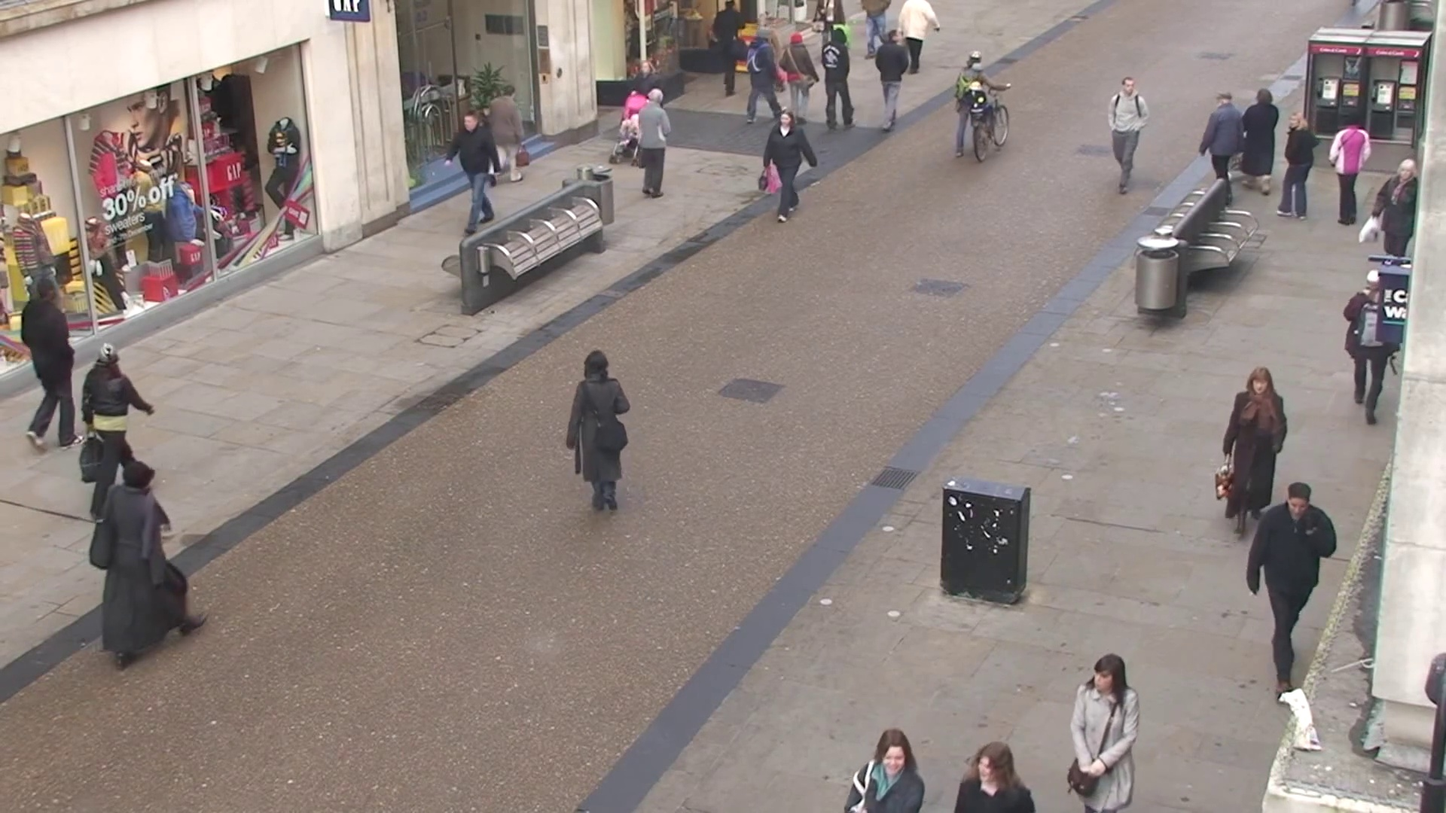person: (90, 457, 185, 667), (1246, 480, 1338, 693), (1219, 366, 1289, 534), (1067, 653, 1139, 813), (80, 346, 154, 491), (567, 351, 630, 515), (20, 271, 78, 449), (845, 728, 926, 813), (1344, 281, 1392, 424), (761, 109, 821, 223), (453, 109, 503, 239), (1370, 140, 1424, 257), (953, 740, 1036, 813), (1107, 75, 1149, 194), (1198, 93, 1246, 196), (1329, 115, 1371, 227), (952, 50, 994, 155), (485, 87, 527, 182), (1279, 116, 1318, 218), (638, 87, 673, 199), (819, 26, 856, 131), (1240, 88, 1280, 184), (740, 29, 780, 124), (871, 28, 908, 129)
